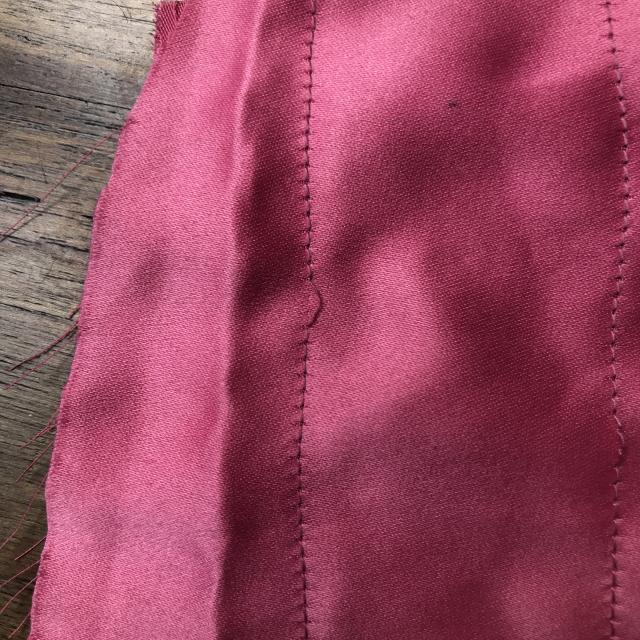skip: (278, 265, 350, 337)
